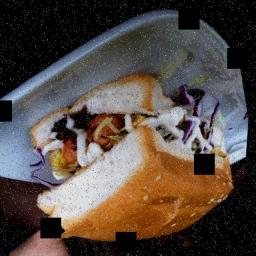hotdog: (60, 94, 152, 180)
